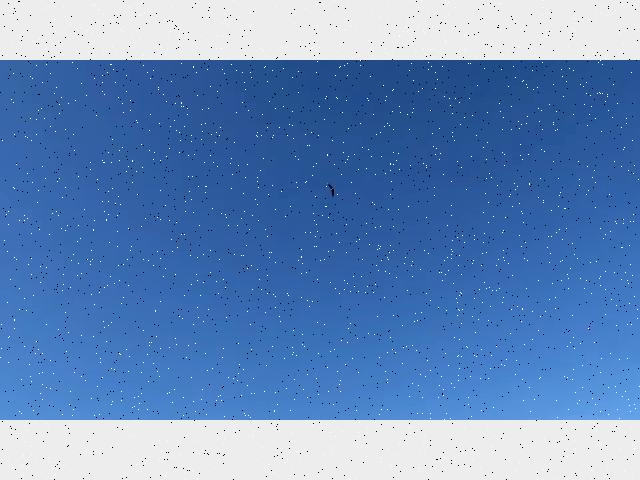Anti-Drone: (318, 176, 344, 202)
